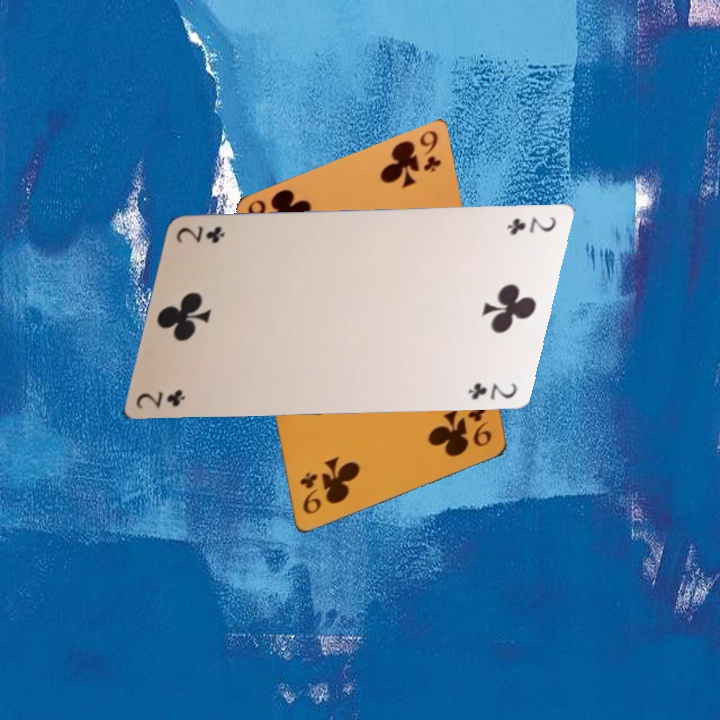2c: (172, 221, 234, 244), (503, 212, 565, 235), (463, 378, 526, 400), (133, 387, 195, 409)
9c: (296, 468, 326, 524), (415, 128, 445, 184)
